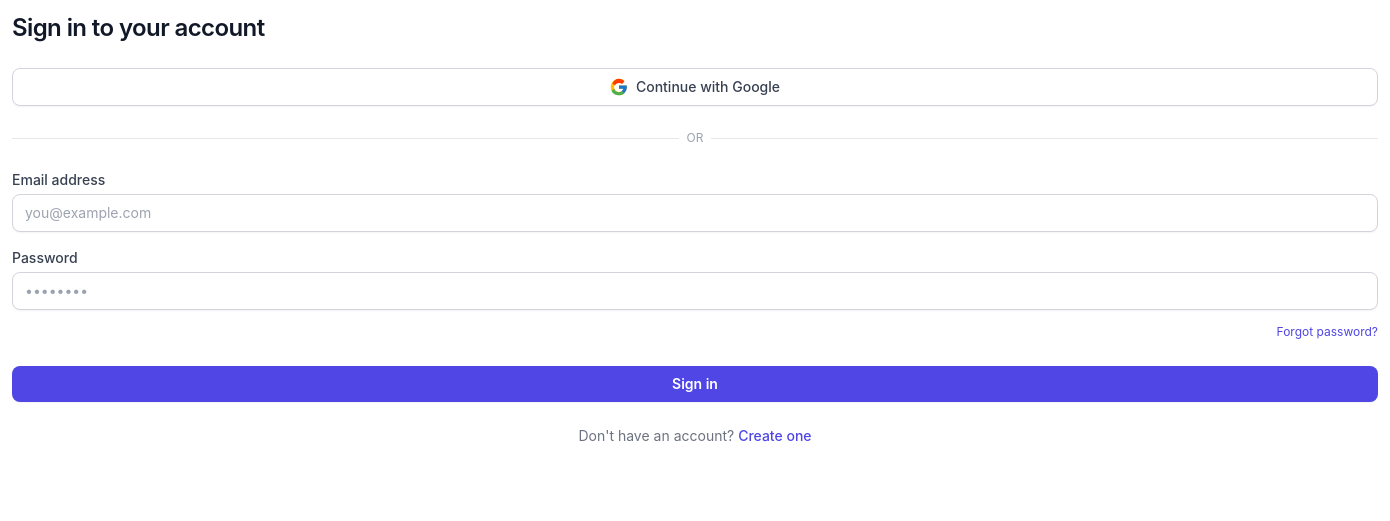
Test: LoginPage › shows network error when fetch throws
The image size is (1390, 521).
Type "test@example.com" into the field labelled "Email address" at (695, 213), box top-left (12, 194), bottom-right (1378, 232)
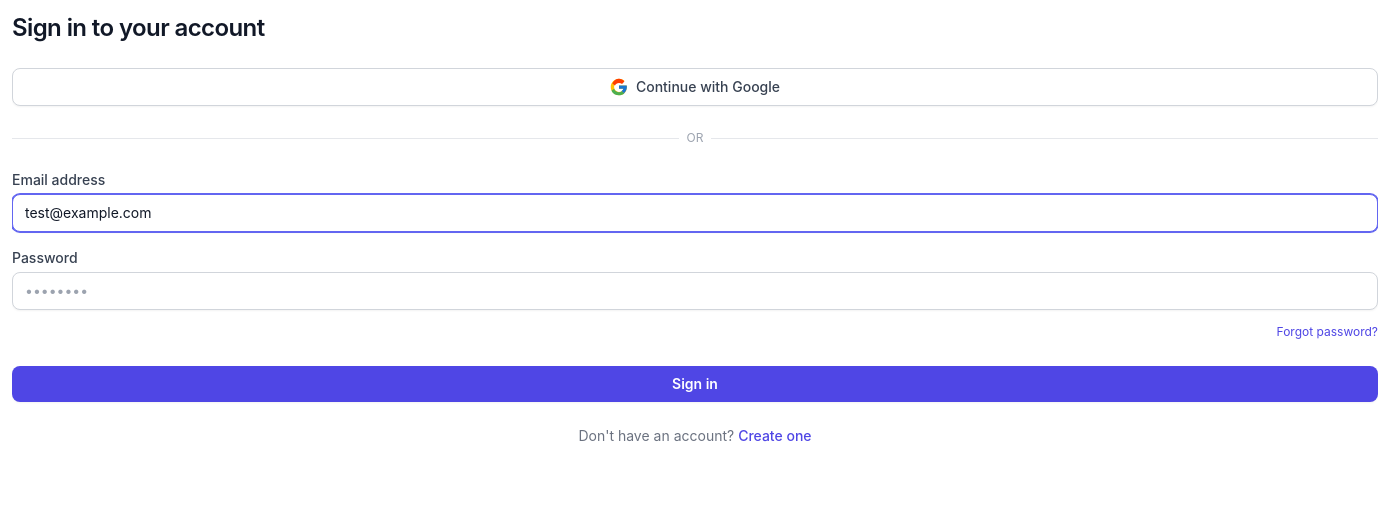
Type "password123" into the password field labelled "Password" at (695, 291), box top-left (12, 272), bottom-right (1378, 310)
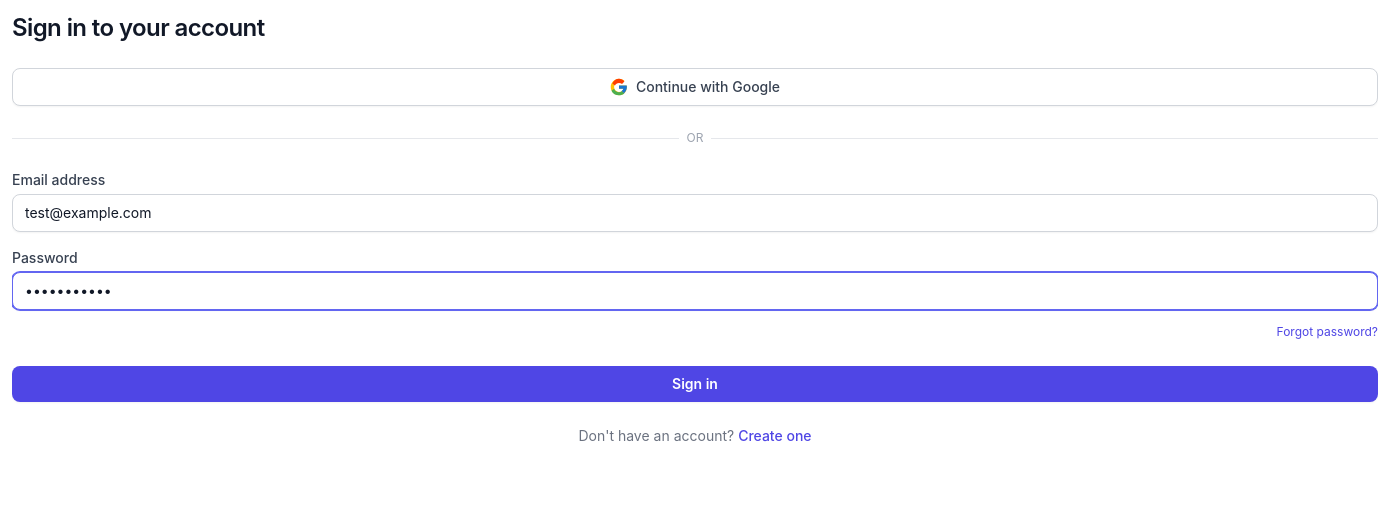
Click the button "Sign in" at (695, 384), box top-left (12, 366), bottom-right (1378, 402)
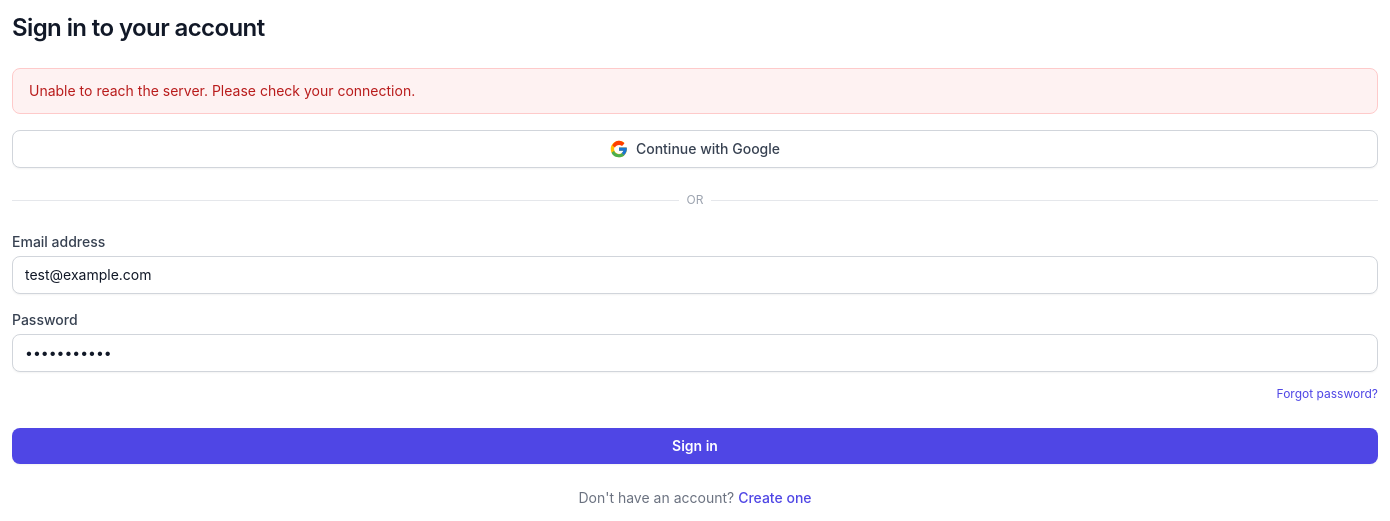
Result: the message shows "Unable to reach the server" at top-left (29, 82), bottom-right (415, 99)
